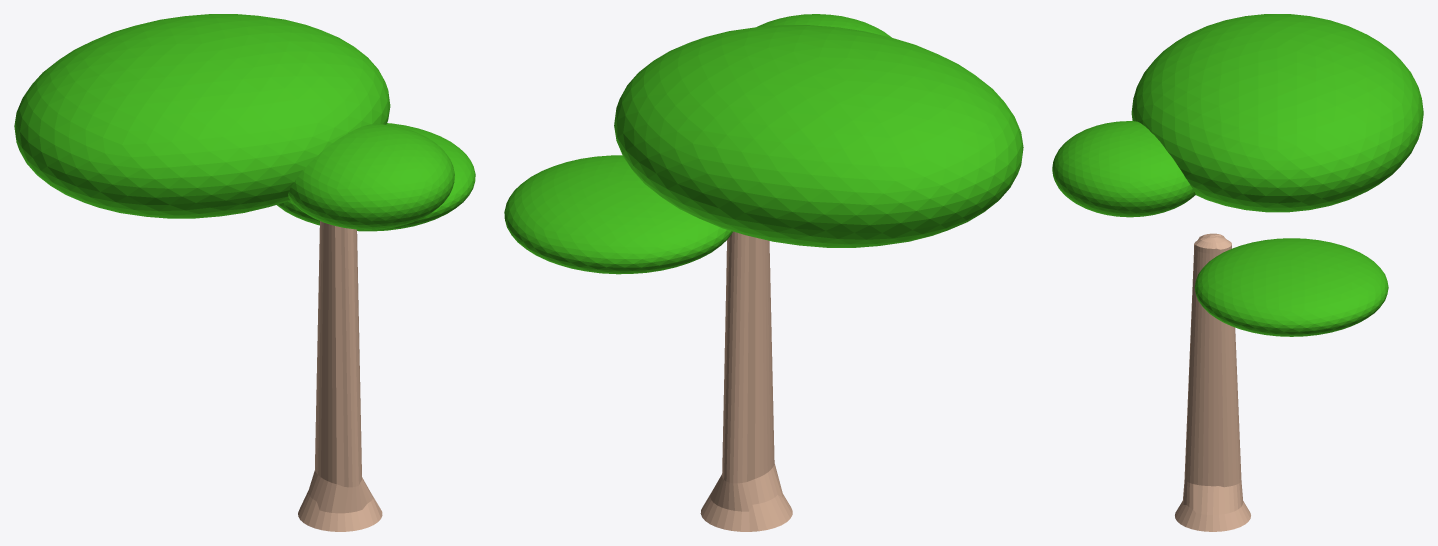
The model's file is Tree.fbx.
3 renders of one model, left to right at view 1: azimuth 30°, elevation 25°; view 2: azimuth 150°, elevation 25°; view 3: azimuth 270°, elevation 25°, orthographic. The views are drawn at different scales.
Parts seen in each view (by area): view 1: Sphere.005, Cylinder, Sphere.003, Sphere.004; view 2: Sphere.005, Sphere.004, Cylinder, Sphere.003; view 3: Sphere.005, Sphere.004, Cylinder, Sphere.003.
Part boxes in pixels (x1,y1,x2,y2): Sphere.005: (14,14,390,218); Cylinder: (298,221,382,531); Sphere.003: (288,123,454,229); Sphere.004: (277,123,475,231); Sphere.005: (614,25,1023,247); Sphere.004: (504,155,732,274); Cylinder: (700,231,792,531); Sphere.003: (756,14,891,37); Sphere.005: (1131,14,1423,212); Sphere.004: (1194,238,1388,336); Cylinder: (1175,233,1250,531); Sphere.003: (1052,121,1195,217).
Size of the model in its own units: 15.39 by 15.81 by 12.58.
